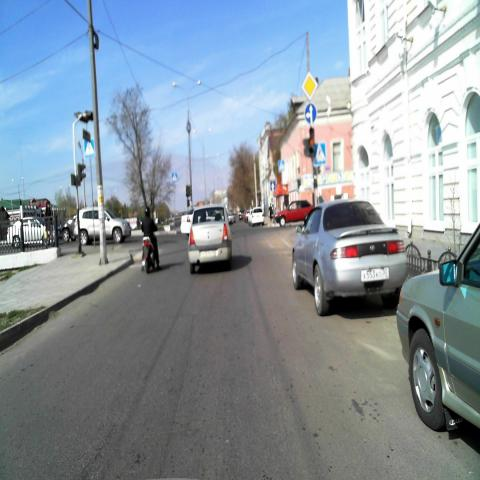2_1: (301, 70, 318, 102)
4_1_5: (304, 103, 316, 125)
5_19_1: (314, 140, 326, 166), (84, 139, 96, 158)
5_5: (270, 180, 276, 191)
